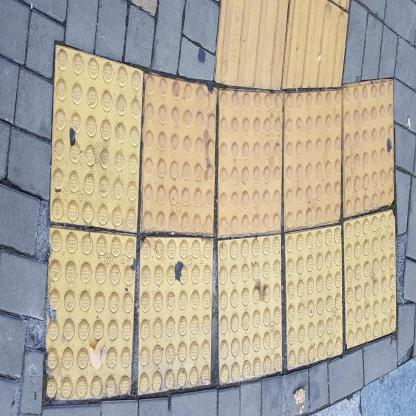podotacti: (42, 0, 400, 406)
